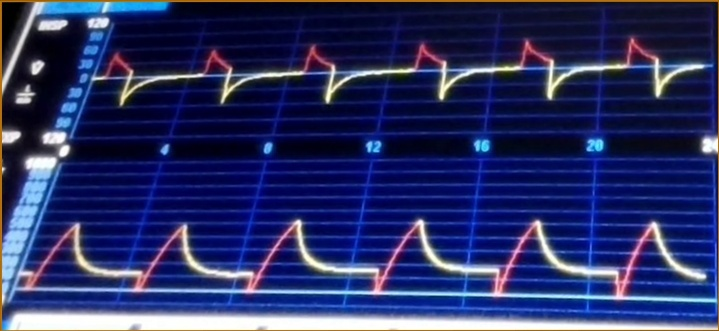Flow: (103, 29, 704, 128)
Leakage Volume: (48, 180, 700, 308)
